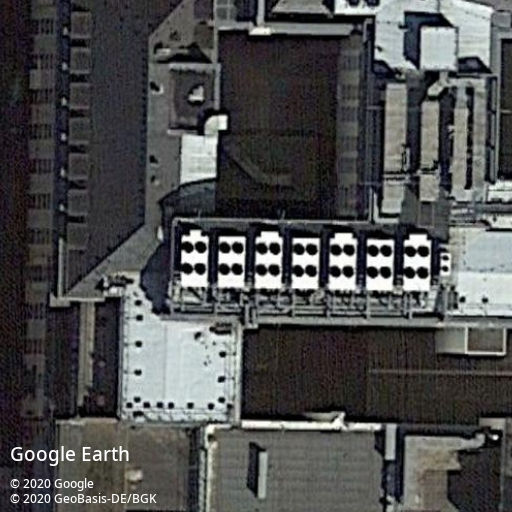Chiller: (179, 229, 210, 289), (402, 233, 433, 291), (252, 231, 283, 289), (327, 231, 358, 289), (216, 233, 247, 289), (290, 233, 321, 289), (365, 235, 396, 291), (437, 251, 453, 277)
